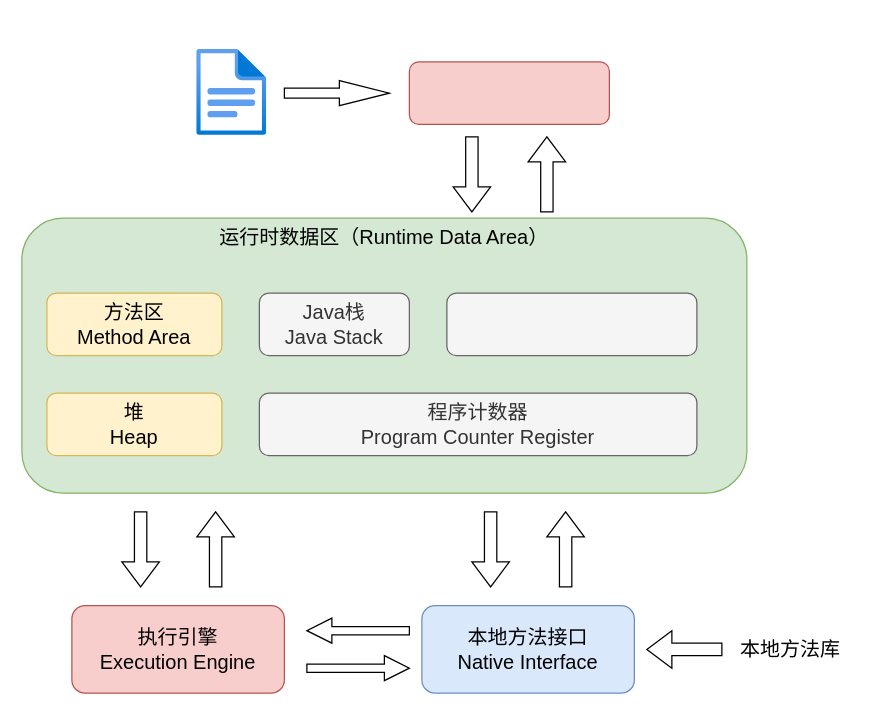
The diagram is 869 pixels wide and 715 high, and some of its shapes have lost their labels. Here are the shapes that lost their labels. From the top down, the centre of each, then its label:
At (231,92): "Class Files".
At (508,92): "类加载子系统 ClassLoader".
At (571,324): "本地方法栈 Native Method Stack".
